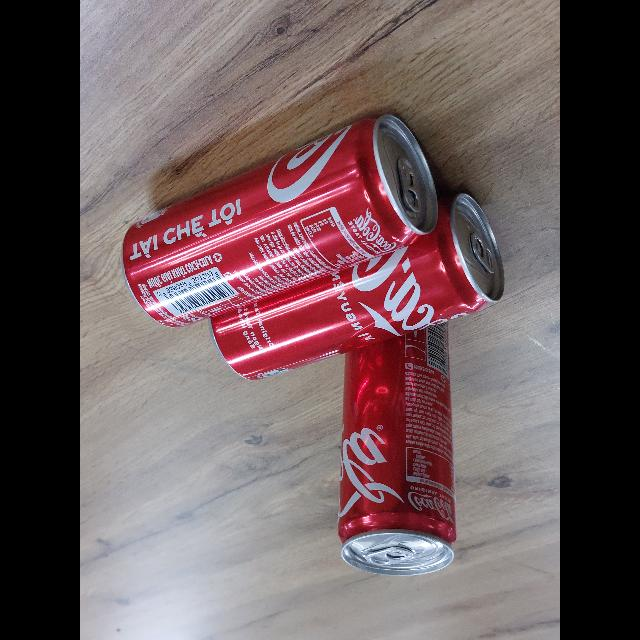coca_cola: (119, 115, 439, 327), (210, 189, 506, 380), (338, 324, 457, 576)
